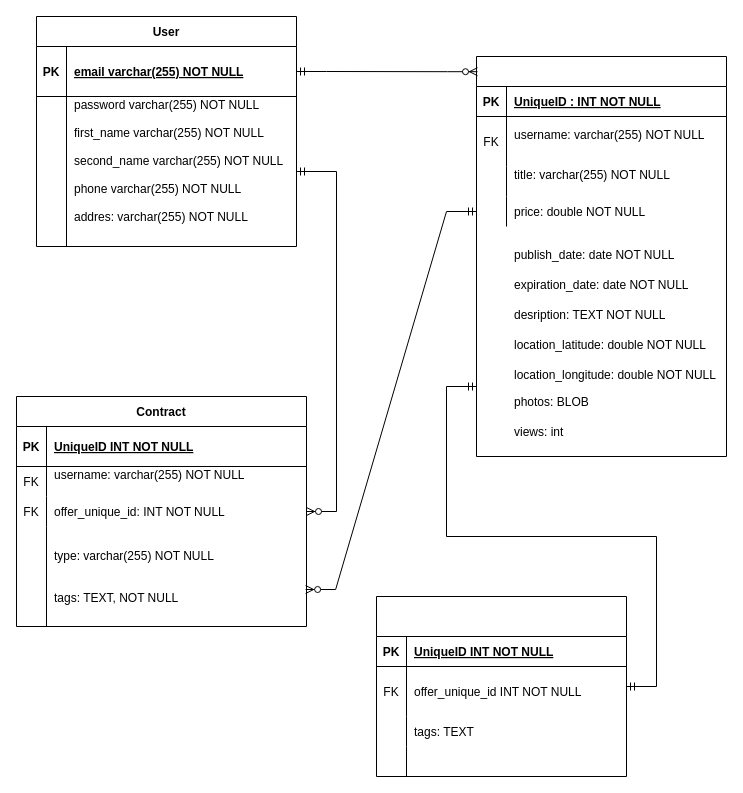
Some shapes in this 743 by 793 pixel diagram are drawn without their labels. Here are the shapes that lost their labels. From the top down, the box of each, then its label:
(476, 56, 726, 456): Offer
(376, 596, 626, 776): OfferTags
